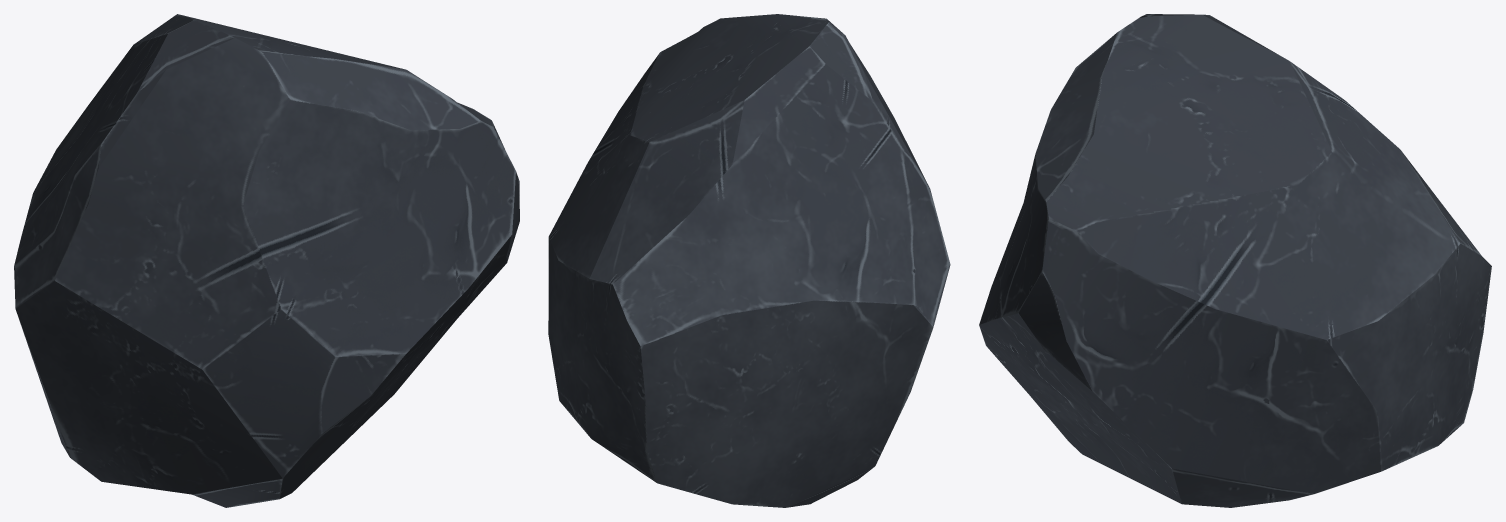
The picture shows the model from 3 angles, left to right: view 1: azimuth 30°, elevation 25°; view 2: azimuth 150°, elevation 25°; view 3: azimuth 270°, elevation 25°; orthographic projection. The views are drawn at different scales.
Parts seen in each view (by area): view 1: lp; view 2: lp; view 3: lp.
Part boxes in pixels (bbox=[...]): lp: bbox=[14, 14, 519, 507]; lp: bbox=[548, 14, 950, 507]; lp: bbox=[979, 14, 1491, 507].
Size of the model in its own units: 1.14 by 1.25 by 1.25.
Materials: 1 (1 with a texture image).
